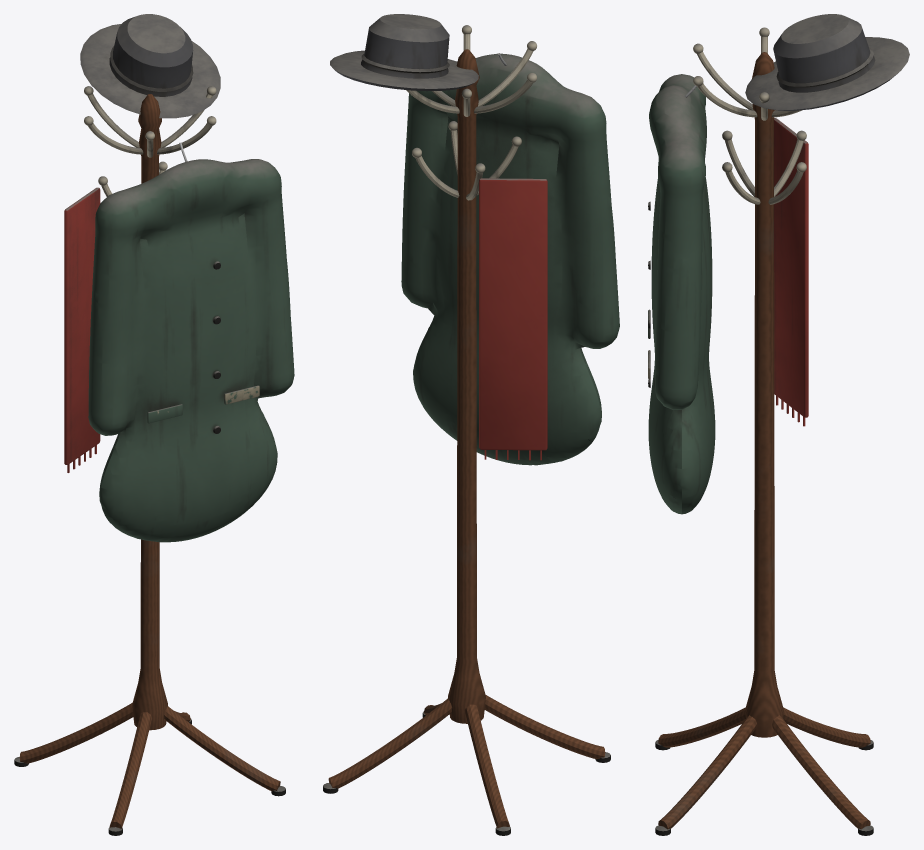
The model's file is SM_CoatRack_Standing.fbx.
3 views of the same model, side by side, from view 1: azimuth 30°, elevation 25°; view 2: azimuth 150°, elevation 25°; view 3: azimuth 270°, elevation 25° (orthographic). The views are drawn at different scales.
Visible parts, largest first — view 1: SM_CoatRack_Standing; view 2: SM_CoatRack_Standing; view 3: SM_CoatRack_Standing.
Part boxes in pixels (x1,y1,x2,y2): SM_CoatRack_Standing: (14, 14, 294, 835); SM_CoatRack_Standing: (323, 14, 619, 835); SM_CoatRack_Standing: (648, 14, 909, 835).
Bounding box in the file's own units: 0.5763 × 1.99 × 0.6027.
Materials: 1 (1 with a texture image).
